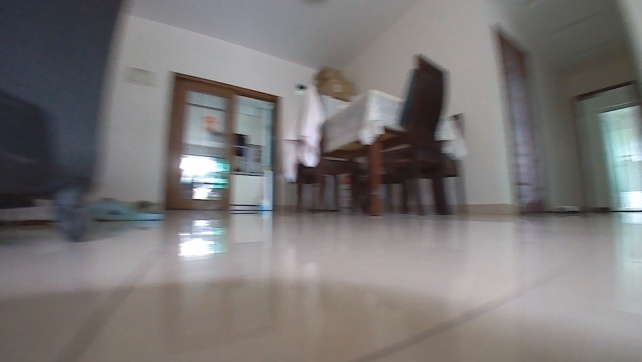dining_table: (280, 50, 470, 217)
